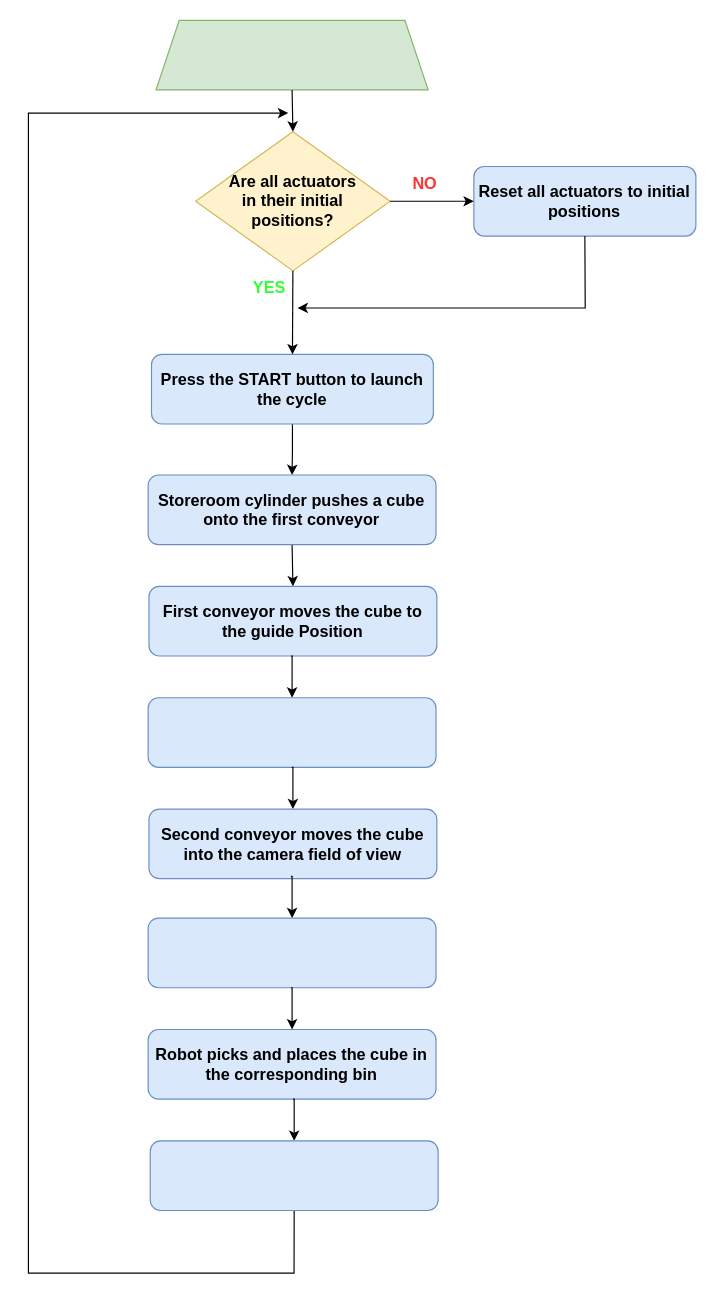
Image size: 717x1303. Some labels were removed from this diagram. The centre of each missing label's shape, as x and y in pixels:
Guide cylinder pules the cube onto the second conveyor: the point at 291,732
Power ON the sorting cell: the point at 291,54
Robot resets to default position: the point at 293,1175
Vision system detects cube color: the point at 291,952
